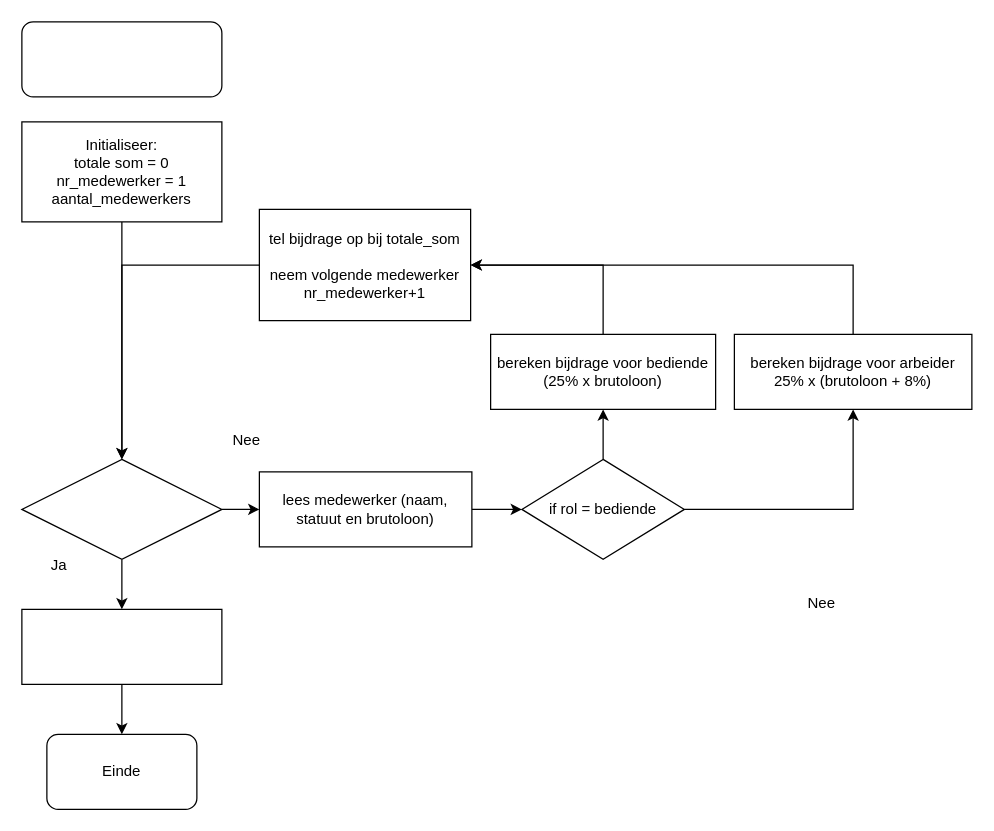
Some shapes in this 994 by 831 pixel diagram are drawn without their labels. Here are the shapes that lost their labels. From the top down, the box of each, then its label:
(21, 21, 222, 97): Start
(21, 458, 222, 559): if nr_medewerker < aantal medewerkers
(21, 608, 222, 684): Druk totale_som
